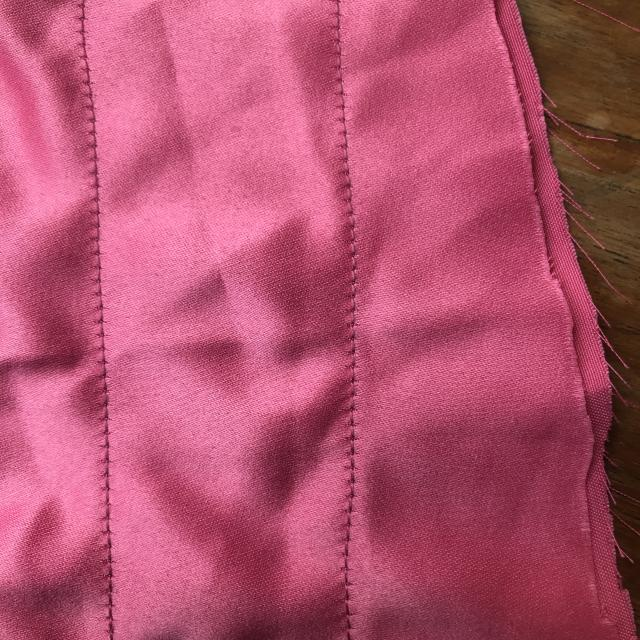good: (329, 159, 375, 321)
